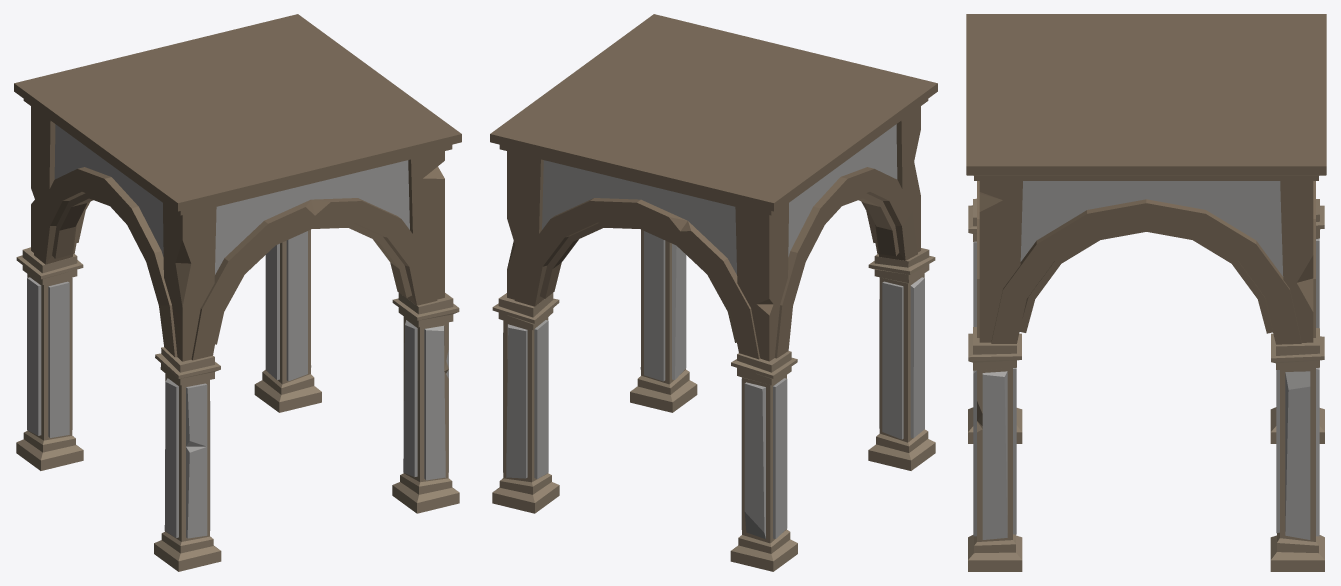
The model's file is SM_Bld_Cuba_Arch_01.glb.
3 views of the same model, side by side, from view 1: azimuth 30°, elevation 25°; view 2: azimuth 150°, elevation 25°; view 3: azimuth 270°, elevation 25° (orthographic). The views are drawn at different scales.
Visible parts, largest first — view 1: SM_Bld_Cuba_Arch_01; view 2: SM_Bld_Cuba_Arch_01; view 3: SM_Bld_Cuba_Arch_01.
Part boxes in pixels (<box>): SM_Bld_Cuba_Arch_01: <box>14,14,461,571</box>; SM_Bld_Cuba_Arch_01: <box>490,14,937,571</box>; SM_Bld_Cuba_Arch_01: <box>966,14,1326,571</box>.
Size of the model in its own units: 0.0379 by 0.0471 by 0.0379.
